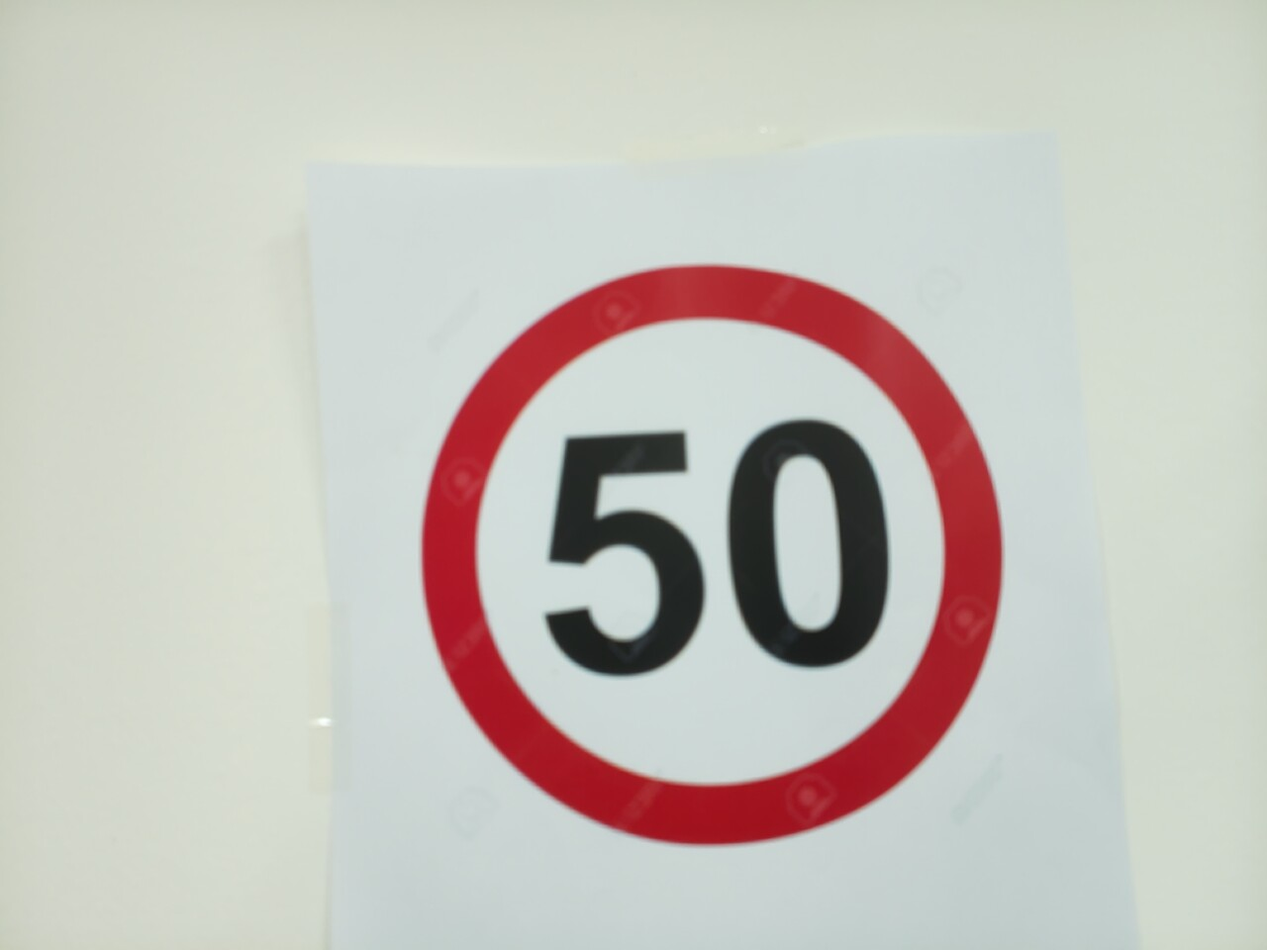speed_50: (407, 250, 1017, 860)
